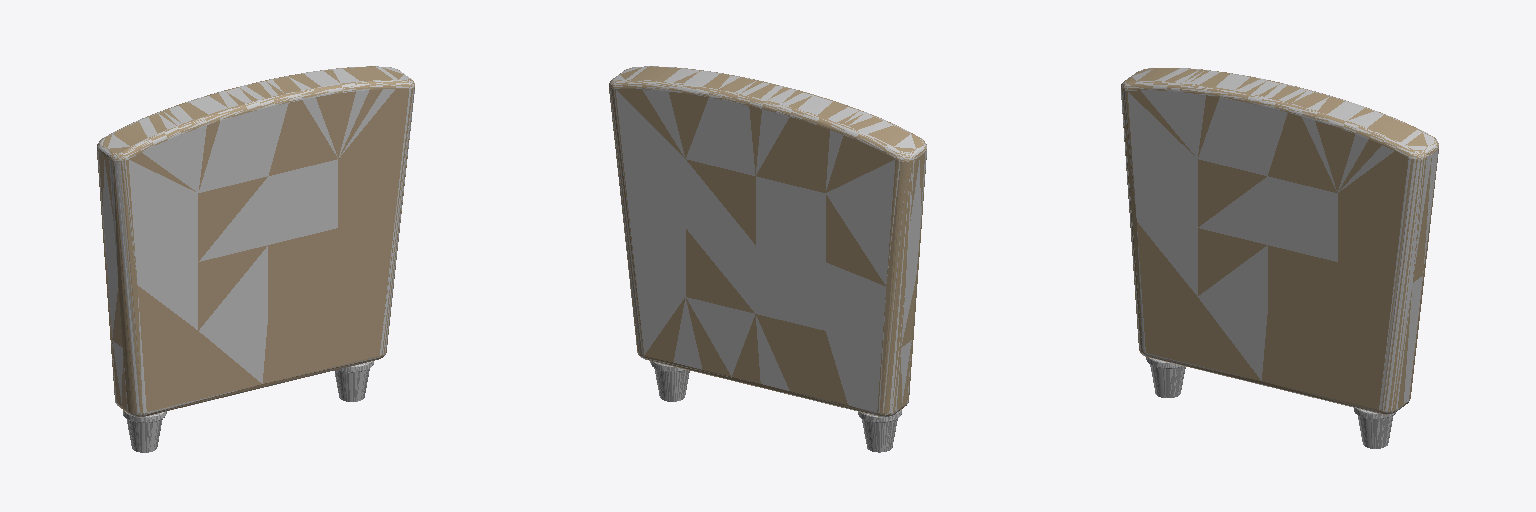
The model's file is right.obj.
3 renders of one model, left to right at view 1: azimuth 30°, elevation 25°; view 2: azimuth 150°, elevation 25°; view 3: azimuth 330°, elevation 25°, orthographic.
Parts seen in each view (by area): view 1: right_mesh8.004_mesh8-geometry; view 2: right_mesh8.004_mesh8-geometry; view 3: right_mesh8.004_mesh8-geometry.
Part boxes in pixels (left/top/right/bottom): right_mesh8.004_mesh8-geometry: left=97, top=66, right=414, bottom=452; right_mesh8.004_mesh8-geometry: left=609, top=66, right=926, bottom=452; right_mesh8.004_mesh8-geometry: left=1121, top=68, right=1438, bottom=448.
Size of the model in its own units: 0.3007 by 0.31 by 0.0425.